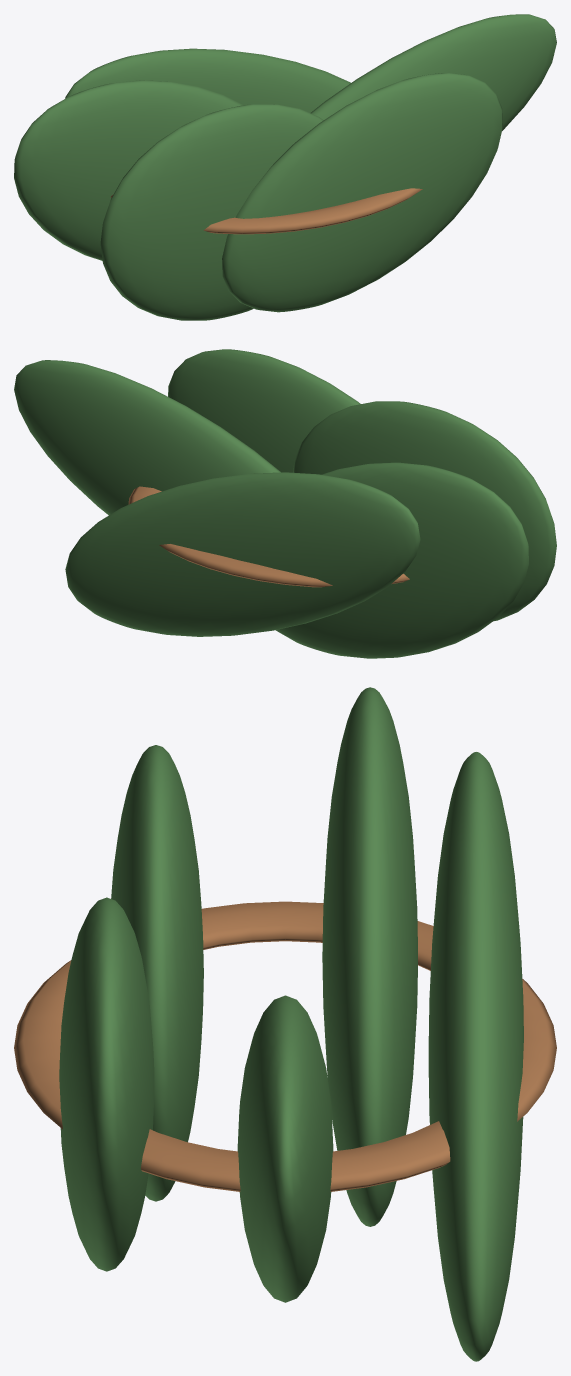
File: wp-bouquet-garni.glb
3 renders of one model, top to bottom at view 1: azimuth 30°, elevation 25°; view 2: azimuth 150°, elevation 25°; view 3: azimuth 270°, elevation 25°, orthographic. The views are drawn at different scales.
Visible parts, largest first — view 1: wp-bouquet-garni; view 2: wp-bouquet-garni; view 3: wp-bouquet-garni.
Boxes of the visible parts, x1=… form: wp-bouquet-garni: x1=14, y1=14, x2=556, y2=320; wp-bouquet-garni: x1=14, y1=349, x2=556, y2=658; wp-bouquet-garni: x1=14, y1=687, x2=556, y2=1361.
Size of the model in its own units: 0.1463 by 0.0557 by 0.07.
